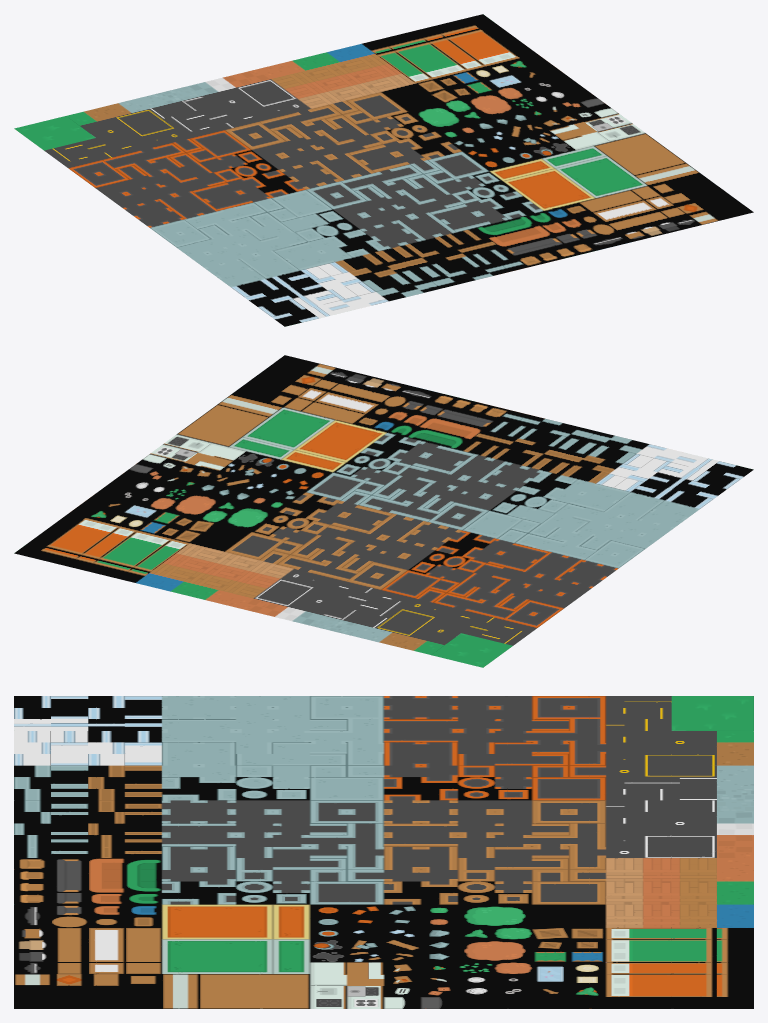
Rendered from test_spritesheet.gltf.
3 renders of one model, top to bottom at view 1: azimuth 30°, elevation 25°; view 2: azimuth 150°, elevation 25°; view 3: azimuth 270°, elevation 25°, orthographic. The views are drawn at different scales.
Visible parts, largest first — view 1: Grid; view 2: Grid; view 3: Grid.
Part boxes in pixels (x1=…): Grid: x1=14, y1=14, x2=753, y2=326; Grid: x1=14, y1=355, x2=753, y2=667; Grid: x1=14, y1=696, x2=753, y2=1008.
Size of the model in its own units: 10 by 0 by 10.
Materials: 1 (1 with a texture image).
